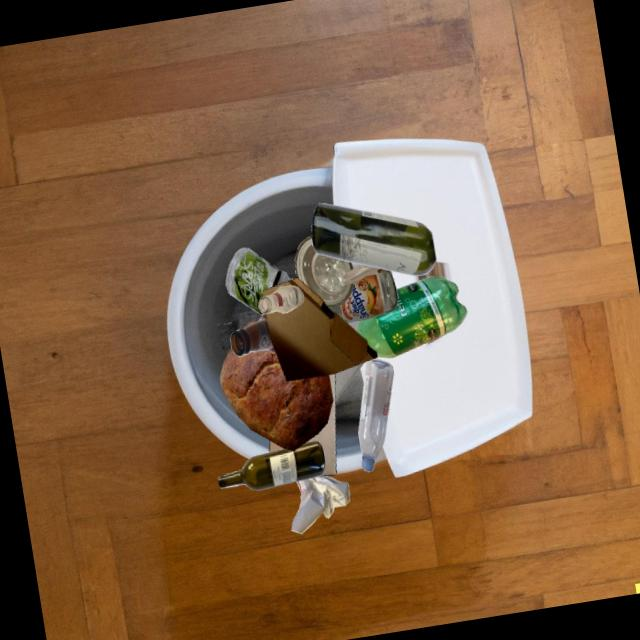biowaste: (220, 348, 333, 451)
cardboard: (263, 277, 378, 381)
glass: (312, 203, 437, 276), (218, 441, 325, 490), (295, 236, 354, 308), (329, 270, 398, 323), (230, 314, 276, 356), (258, 285, 304, 314), (343, 264, 388, 285)
paper: (291, 476, 350, 534), (305, 374, 337, 476), (335, 362, 365, 401)
plastic: (357, 276, 467, 358), (226, 248, 294, 316), (358, 359, 394, 472), (352, 263, 360, 269)
